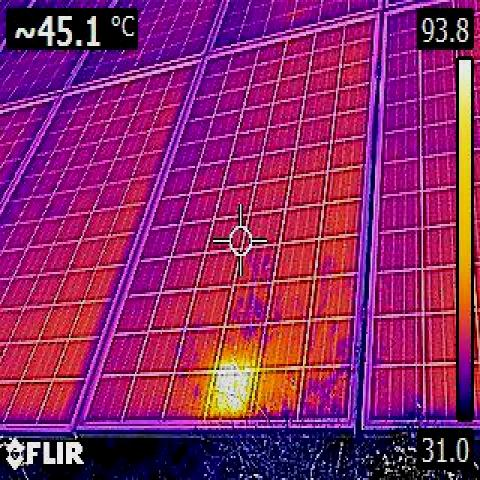fault: (214, 375, 252, 418)
